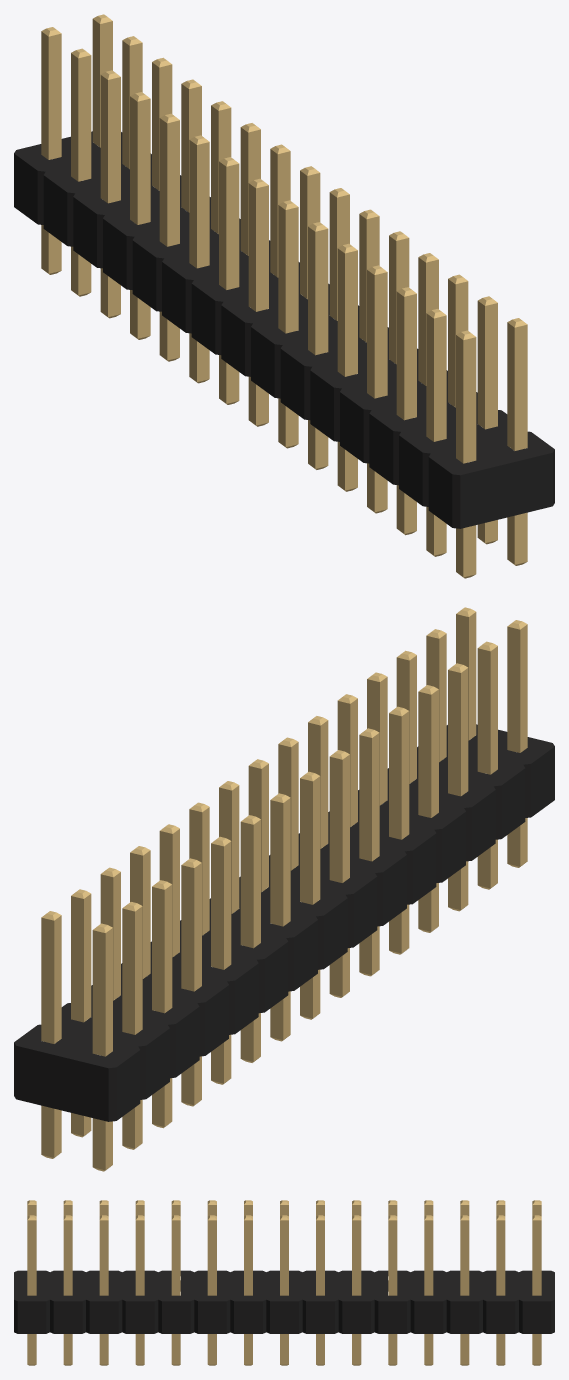
Rendered from kc-pinheader_2x15_p2.54mm_vertical.glb.
3 views of the same model, one above another, from view 1: azimuth 30°, elevation 25°; view 2: azimuth 150°, elevation 25°; view 3: azimuth 270°, elevation 25° (orthographic). The views are drawn at different scales.
Parts seen in each view (by area): view 1: 0.75_0.5_0.25_0.9, 0_0_0_0; view 2: 0.75_0.5_0.25_0.9, 0_0_0_0; view 3: 0_0_0_0, 0.75_0.5_0.25_0.9.
Part boxes in pixels (left/top/right/bottom): 0.75_0.5_0.25_0.9: left=41, top=14, right=527, bottom=578; 0_0_0_0: left=14, top=131, right=554, bottom=528; 0.75_0.5_0.25_0.9: left=41, top=607, right=527, bottom=1171; 0_0_0_0: left=14, top=724, right=554, bottom=1121; 0_0_0_0: left=14, top=1270, right=554, bottom=1333; 0.75_0.5_0.25_0.9: left=27, top=1200, right=541, bottom=1365.
Bounding box in the file's own units: 0.5079 × 1.15 × 3.81.
